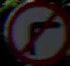Don't turn right: (9, 8, 62, 56)
